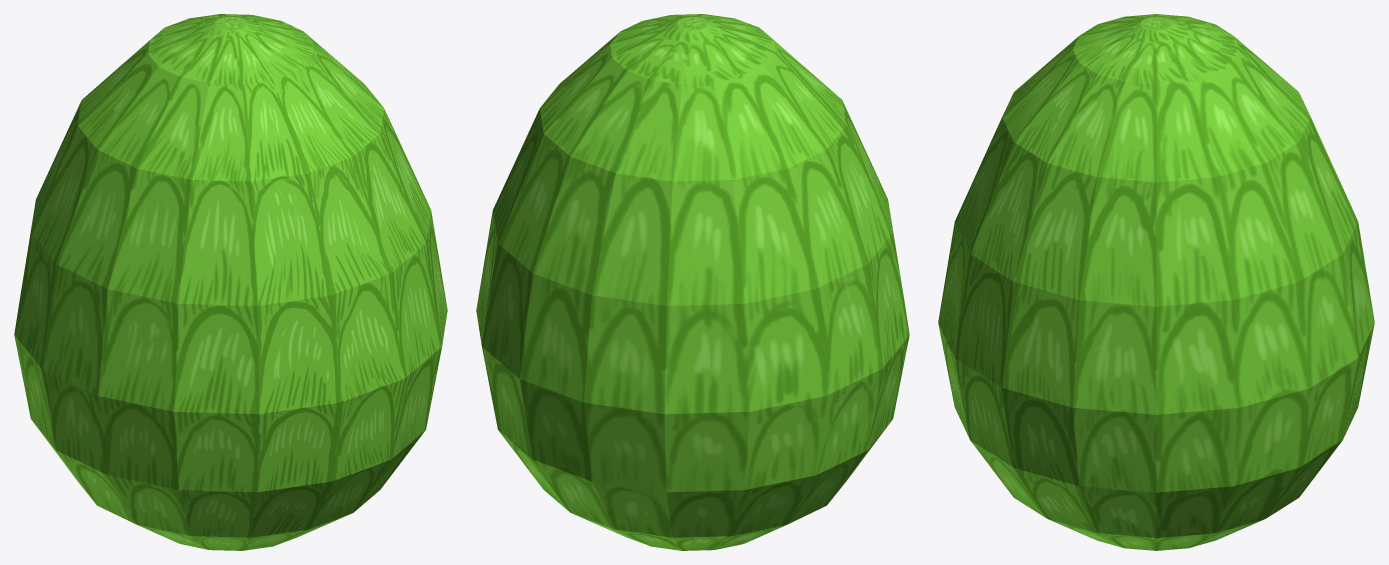
The model's file is egg.fbx.
3 views of the same model, side by side, from view 1: azimuth 30°, elevation 25°; view 2: azimuth 150°, elevation 25°; view 3: azimuth 270°, elevation 25° (orthographic).
Parts seen in each view (by area): view 1: Egg; view 2: Egg; view 3: Egg.
Part boxes in pixels (x1,y1,x2,y2): Egg: (14, 14, 447, 550); Egg: (476, 14, 909, 550); Egg: (938, 14, 1374, 550).
Bounding box in the file's own units: 200 × 256 × 200.
